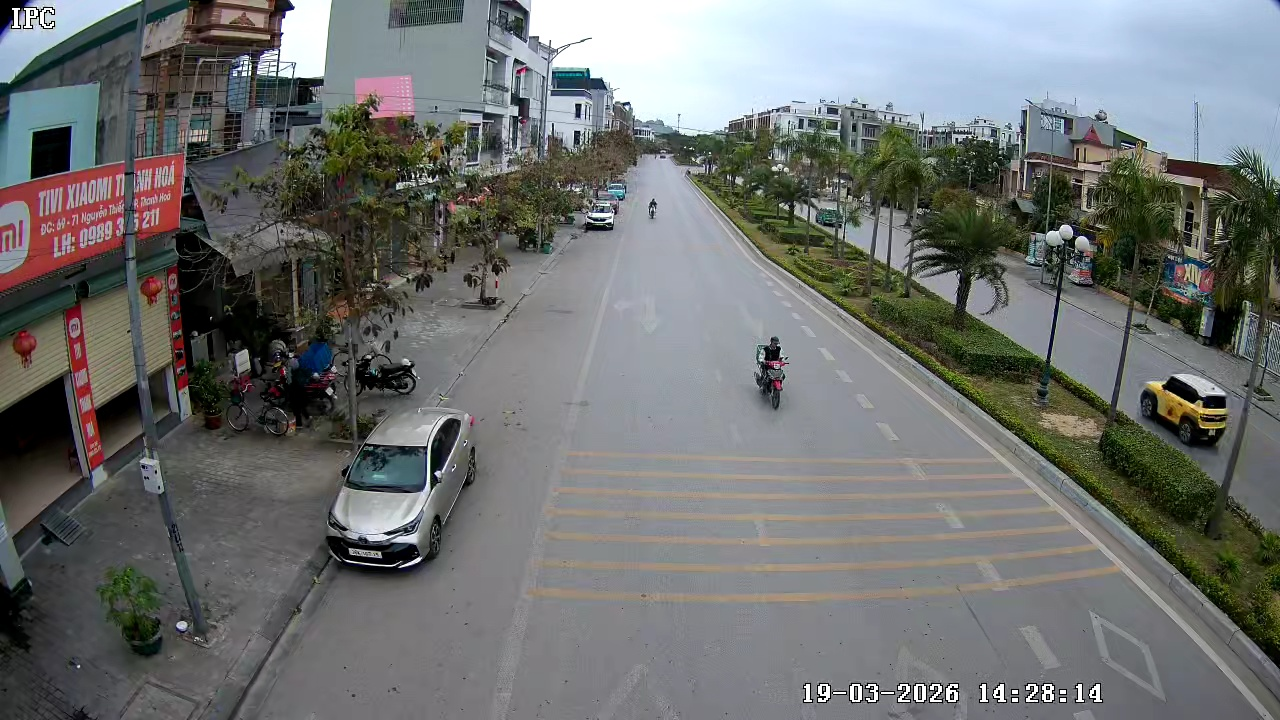car: (325, 404, 478, 571), (1139, 369, 1231, 446), (582, 202, 619, 232)
motorbike: (351, 323, 420, 397), (752, 334, 791, 411), (646, 194, 661, 221)
